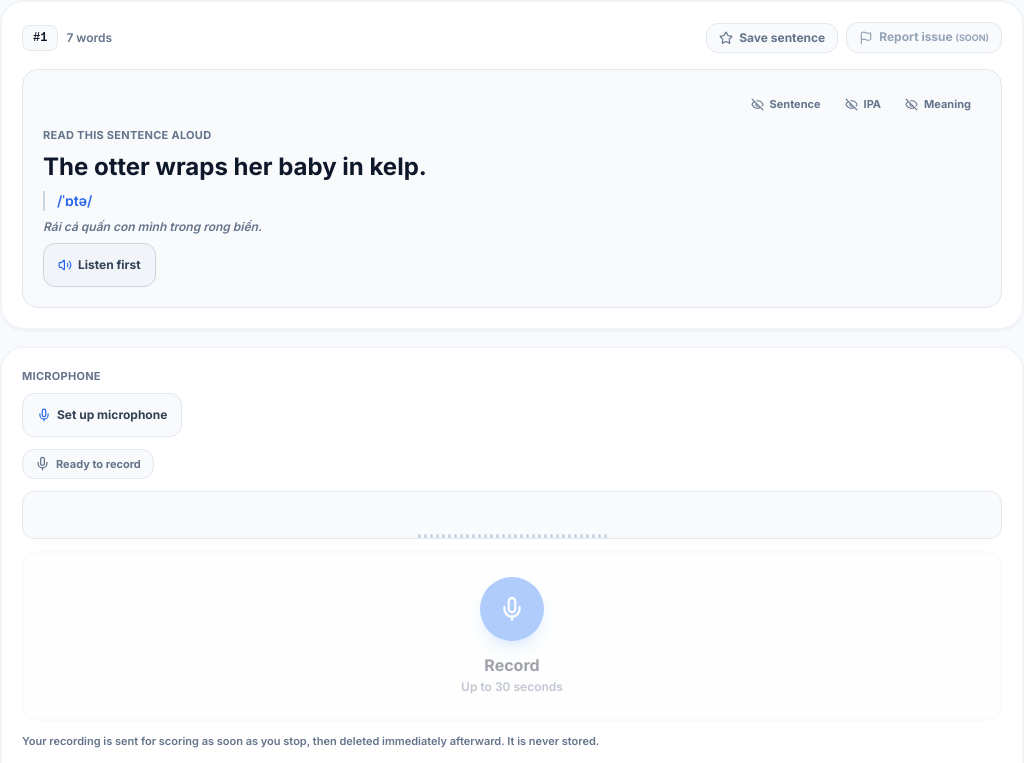
ShadowingModePanel — failures each say their own thing › names a missing device as missing
Click the button "Set up microphone": (102, 414) [22,392,182,436]
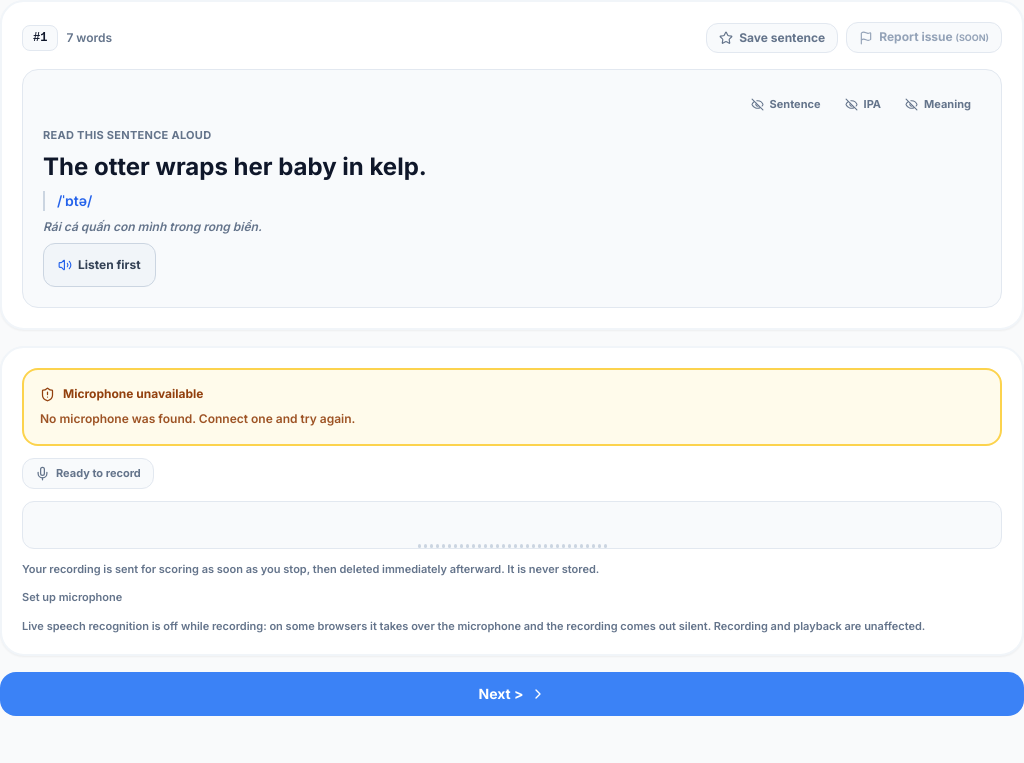
Now the text "No microphone was found. Connect one and try again." is shown, box [40,411,355,426]
